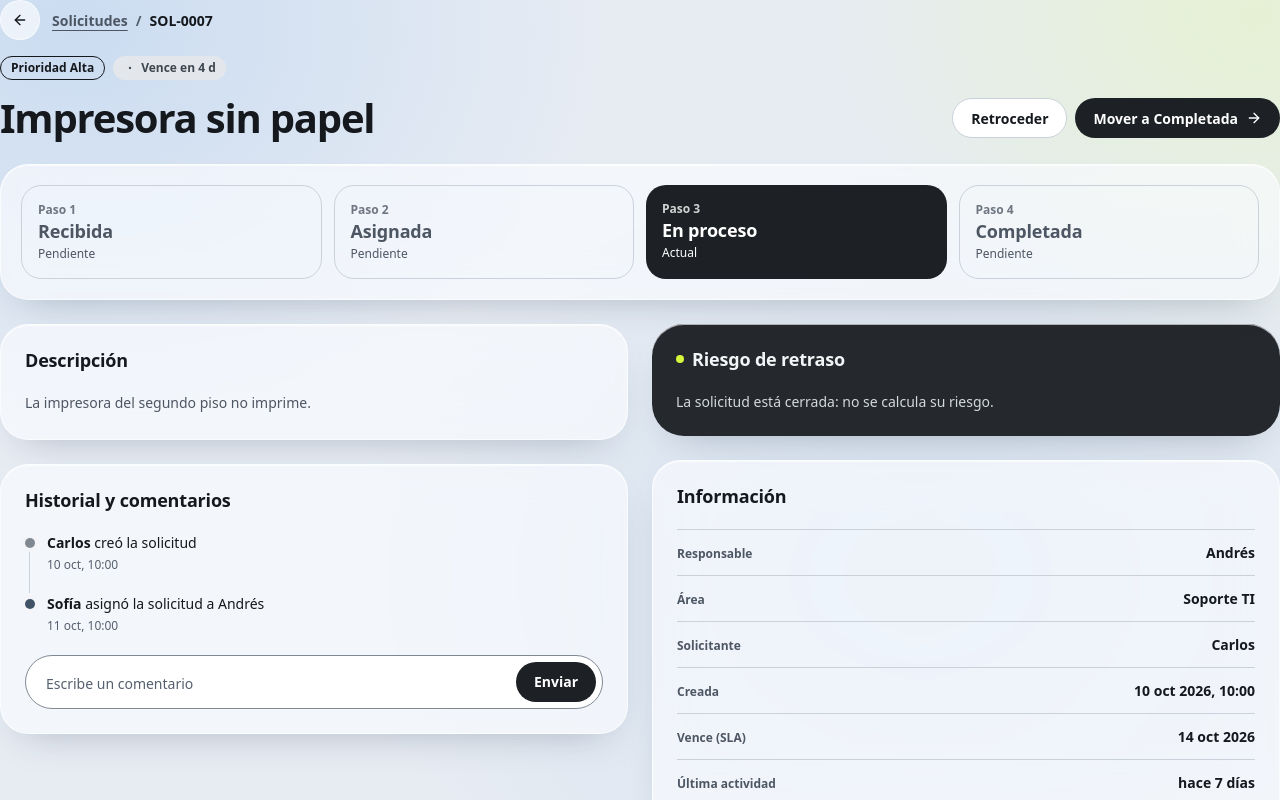
Scenario: detalle de solicitud › pide comentario obligatorio y envía la transición con la versión actual
Click the button "Retroceder": (1010, 118) 952,98 -> 1068,138
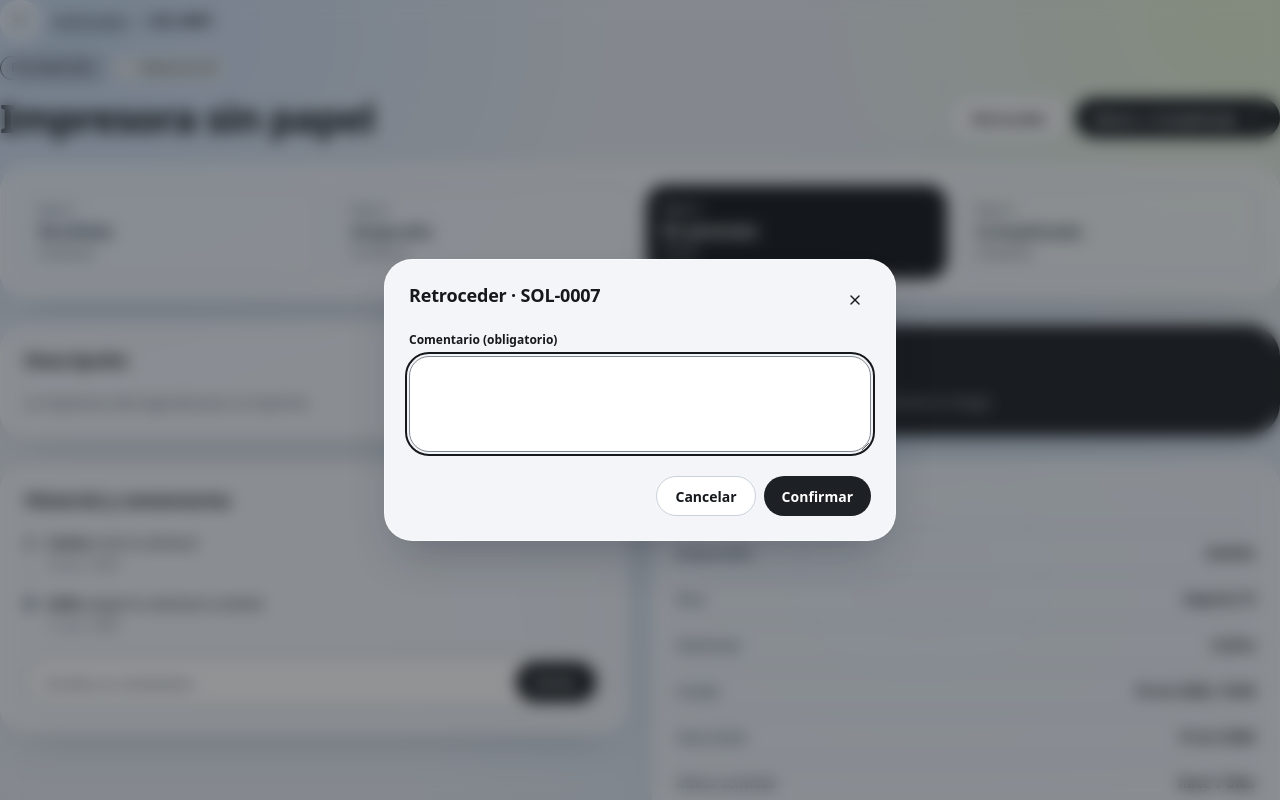
Click the button "Confirmar": (817, 496) 764,476 -> 871,516
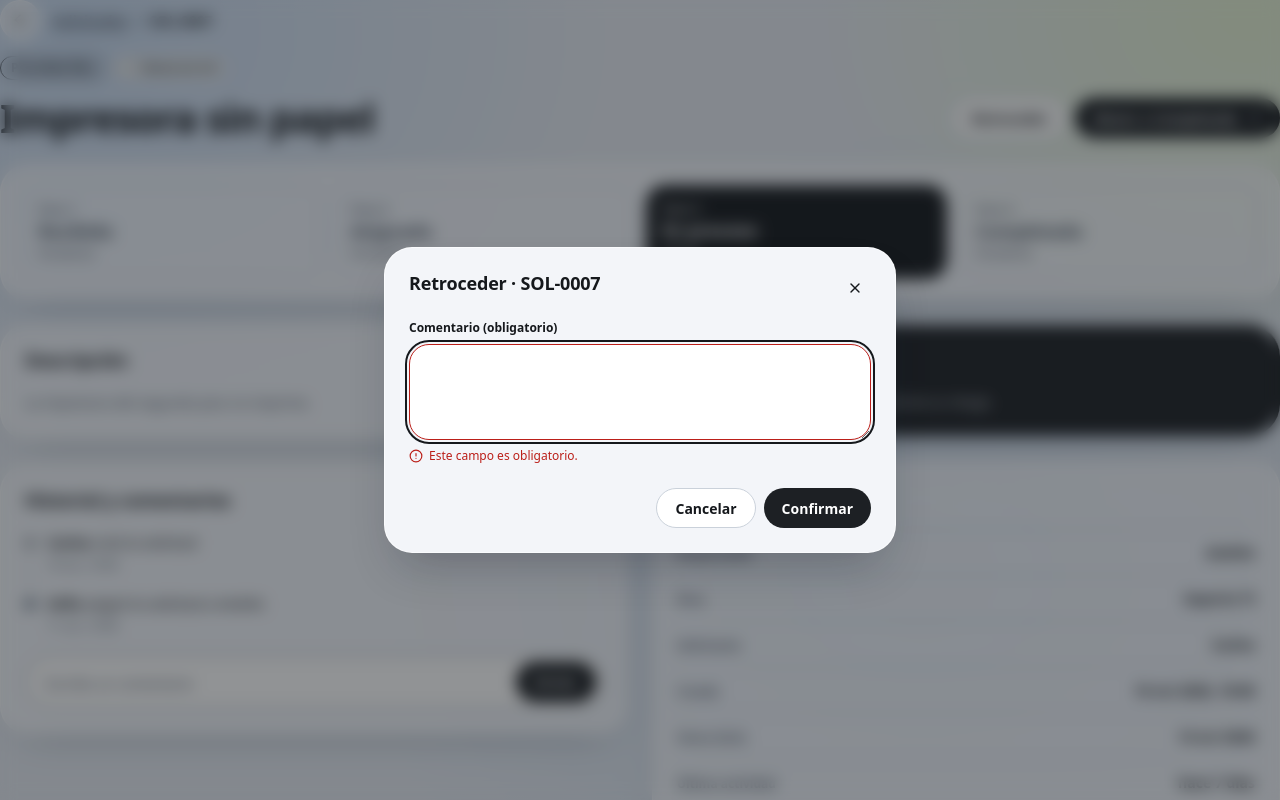
Now the text "Este campo es obligatorio." is shown, box 409,447 -> 578,464
In the text box labelled "Comentario (obligatorio)": (640, 392) 409,344 -> 871,440, type "Falta un repuesto"
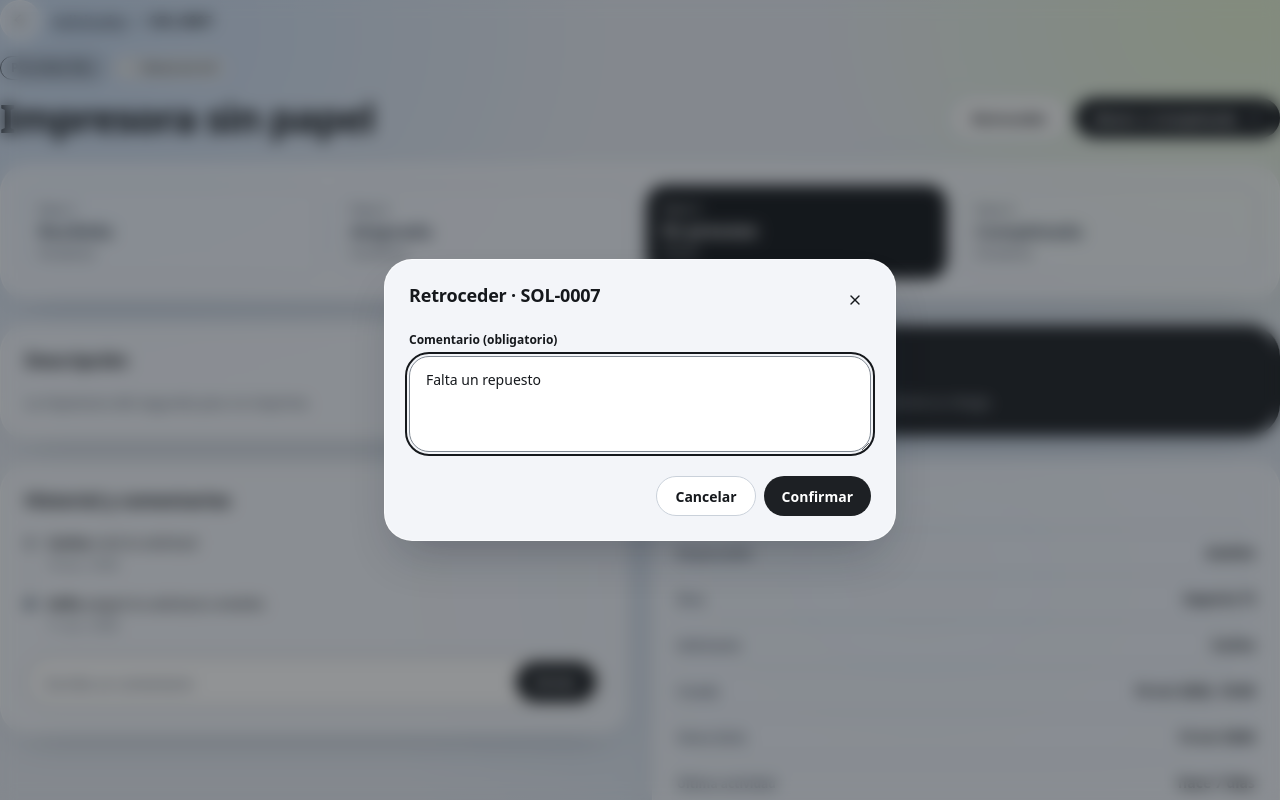
Click the button "Confirmar": (817, 496) 764,476 -> 871,516
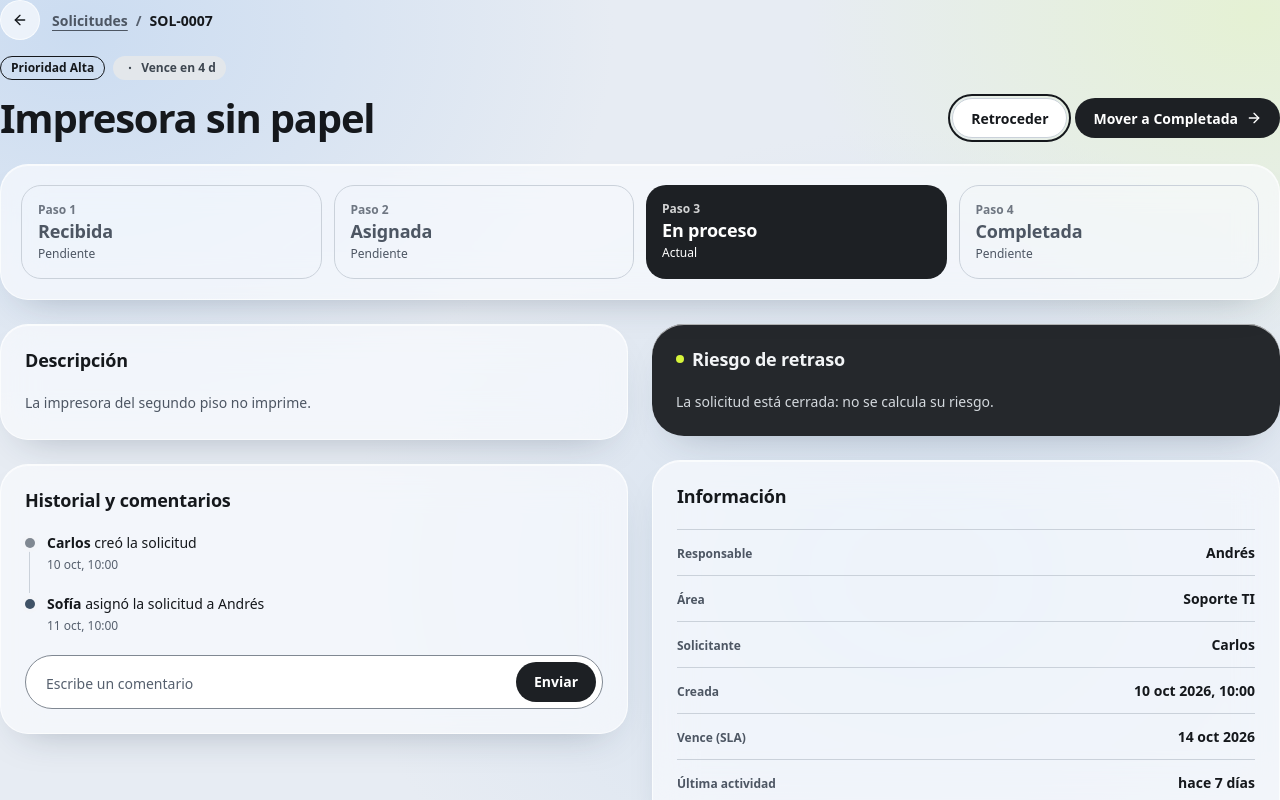
Now the dialog is gone
